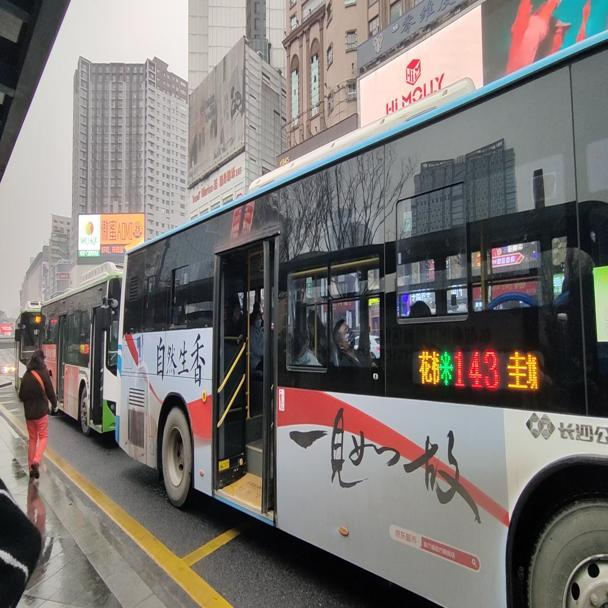bus: (112, 30, 607, 606), (38, 264, 120, 436), (12, 302, 39, 395)
screen: (453, 349, 500, 389)
